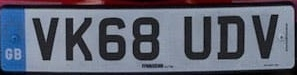character: (64, 16, 94, 62), (131, 16, 161, 62), (182, 15, 212, 61), (216, 14, 246, 60), (31, 16, 60, 61), (97, 16, 126, 61), (251, 12, 278, 60)
